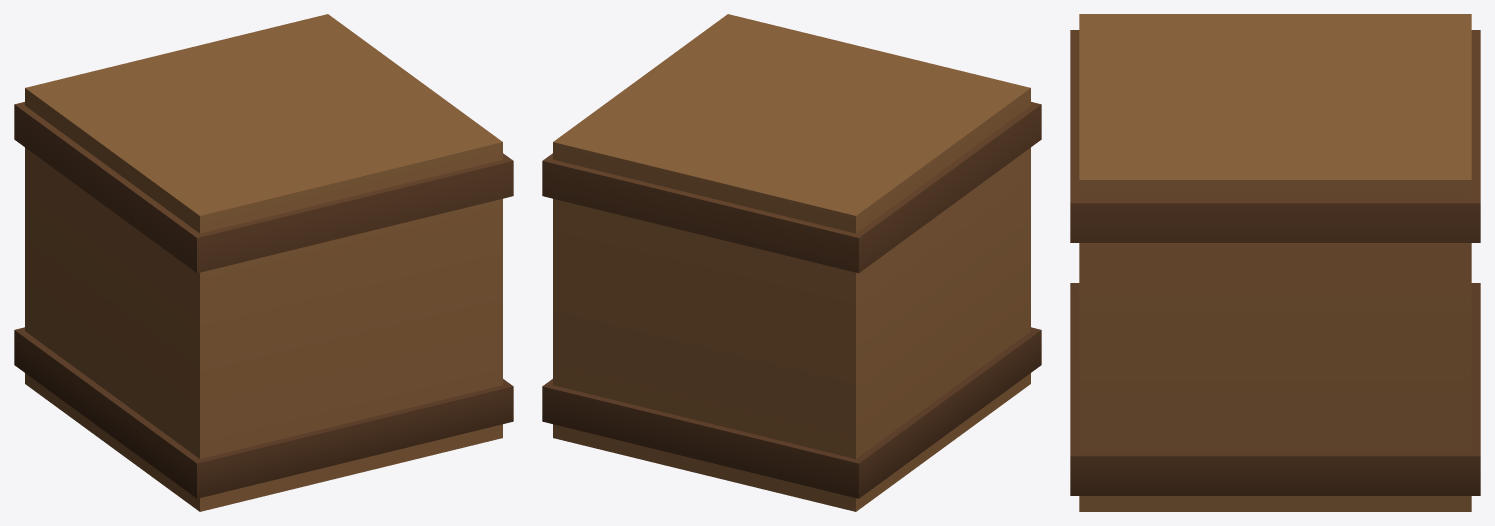
The model's file is lada.glb.
The picture shows the model from 3 angles, left to right: view 1: azimuth 30°, elevation 25°; view 2: azimuth 150°, elevation 25°; view 3: azimuth 270°, elevation 25°; orthographic projection. The views are drawn at different scales.
Visible parts, largest first — view 1: Corp; view 2: Corp; view 3: Corp.
Boxes of the visible parts, x1,y1,x2,y2 form: Corp: (14, 14, 513, 511); Corp: (542, 14, 1041, 511); Corp: (1070, 14, 1480, 511).
Bounding box in the file's own units: 0.47 × 0.42 × 0.47.
